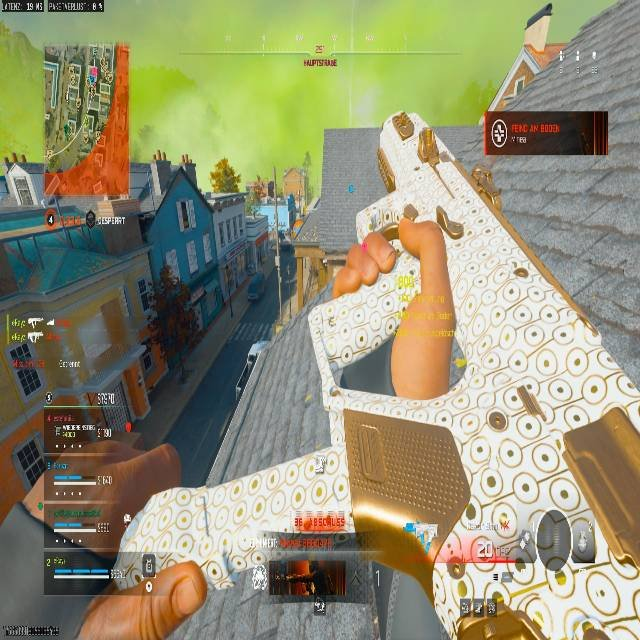head: (377, 110, 446, 185)
player: (318, 112, 475, 400), (135, 270, 203, 416)
